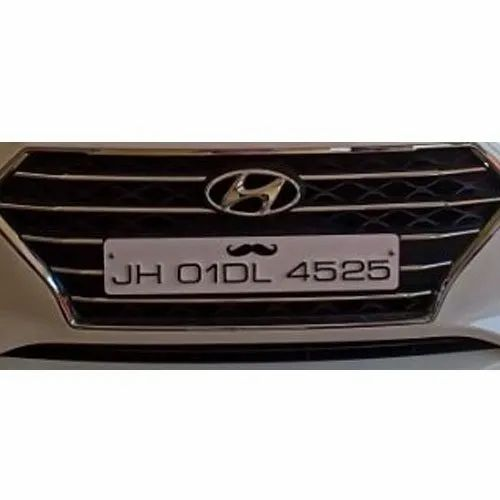number_plate: (107, 237, 401, 289)
